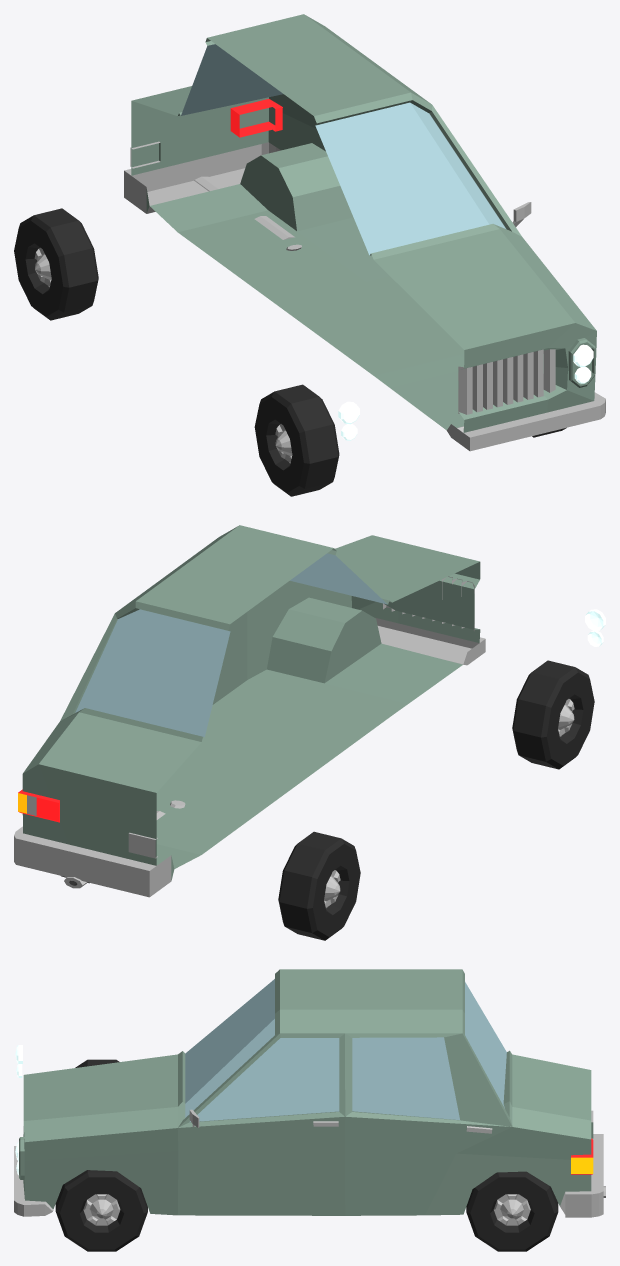
The model's file is Sedan3.fbx.
3 views of the same model, one above another, from view 1: azimuth 30°, elevation 25°; view 2: azimuth 150°, elevation 25°; view 3: azimuth 270°, elevation 25° (orthographic). The views are drawn at different scales.
Parts seen in each view (by area): view 1: Sedan, Wheel.FR, Wheel.RR, Headlights, Exhaust; view 2: Sedan, Wheel.FR, Wheel.RR, Headlights; view 3: Sedan, Wheel.FL, Wheel.RL.
Boxes of the visible parts, bbox=[...] form: Sedan: bbox=[124, 14, 605, 451]; Wheel.FR: bbox=[254, 384, 339, 496]; Wheel.RR: bbox=[14, 208, 98, 320]; Headlights: bbox=[338, 344, 593, 440]; Exhaust: bbox=[194, 176, 301, 250]; Sedan: bbox=[14, 525, 485, 897]; Wheel.FR: bbox=[512, 660, 594, 769]; Wheel.RR: bbox=[278, 831, 360, 940]; Headlights: bbox=[585, 609, 605, 646]; Sedan: bbox=[14, 969, 603, 1217]; Wheel.FL: bbox=[55, 1170, 147, 1251]; Wheel.RL: bbox=[466, 1171, 558, 1251].
Bounding box in the file's own units: 184 × 149 × 354.
